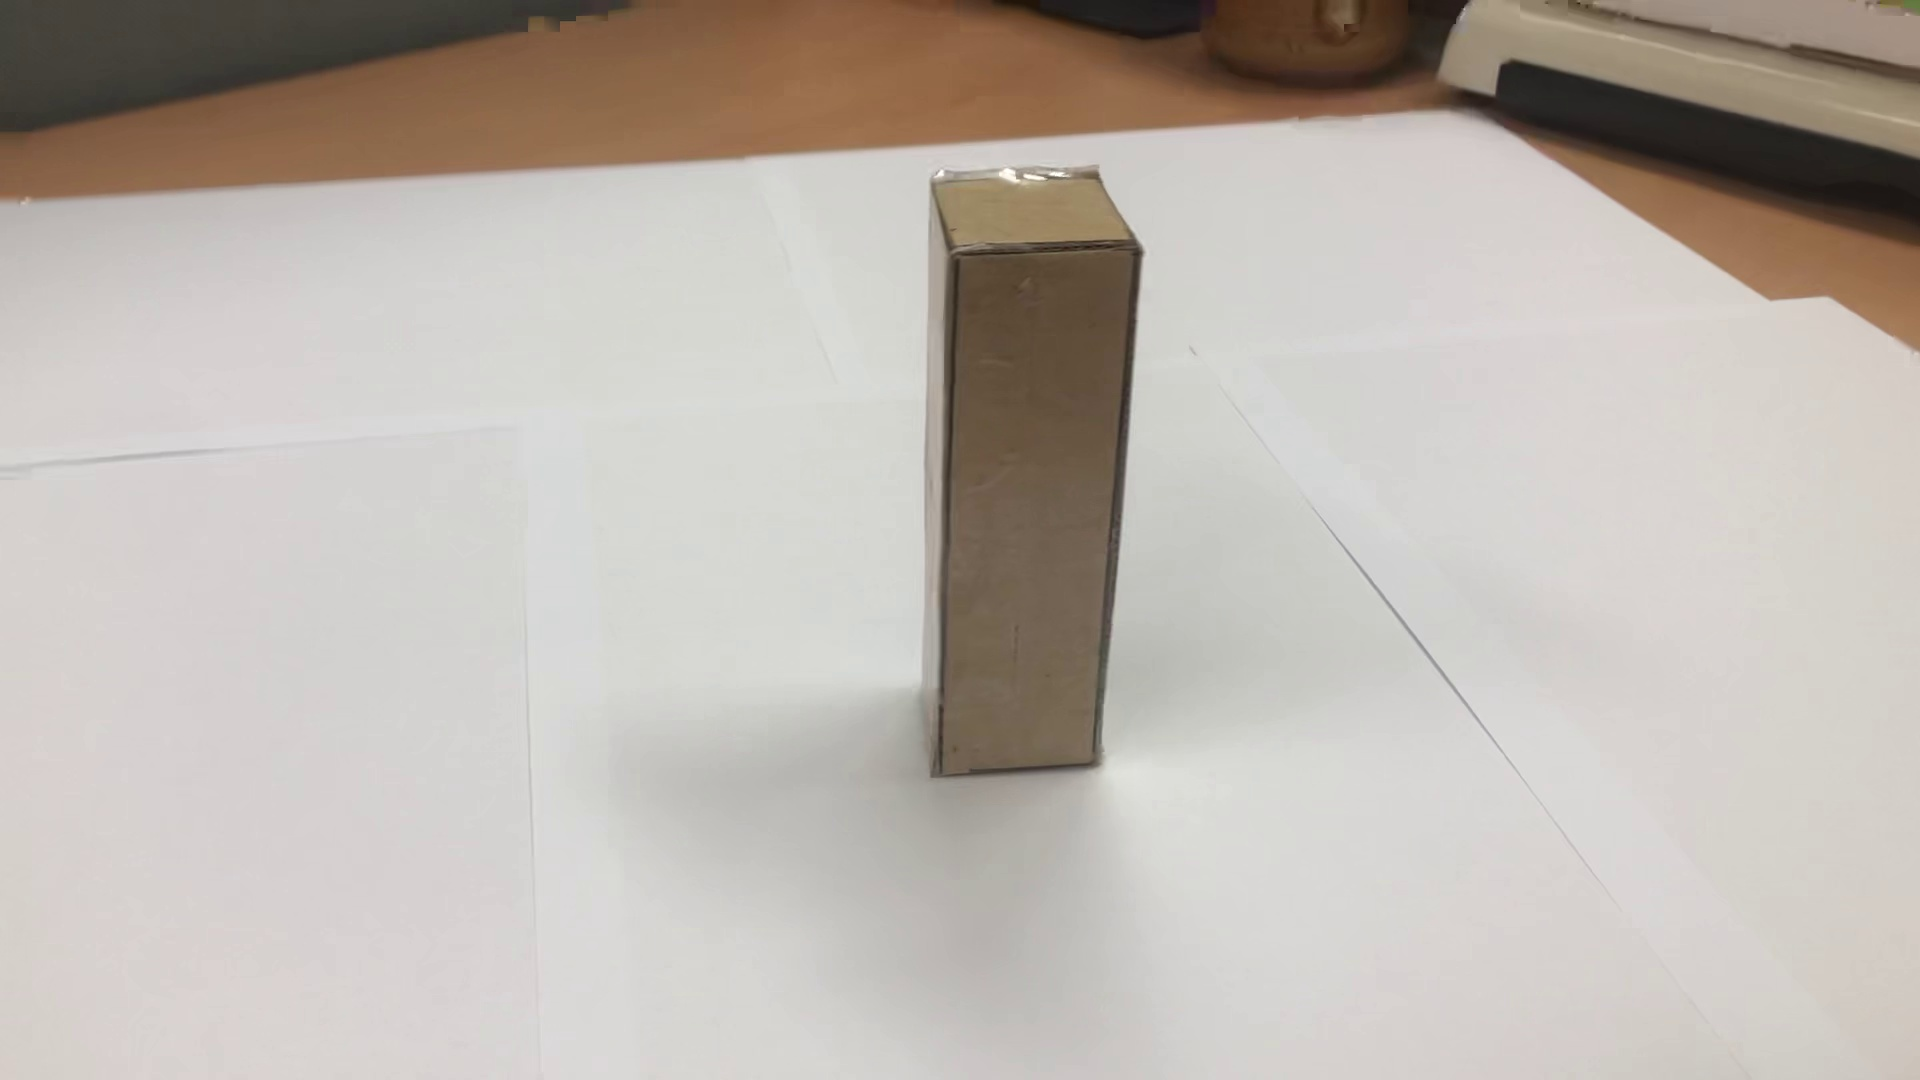box: (880, 142, 1163, 802)
